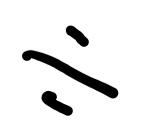div: (22, 26, 118, 116)
